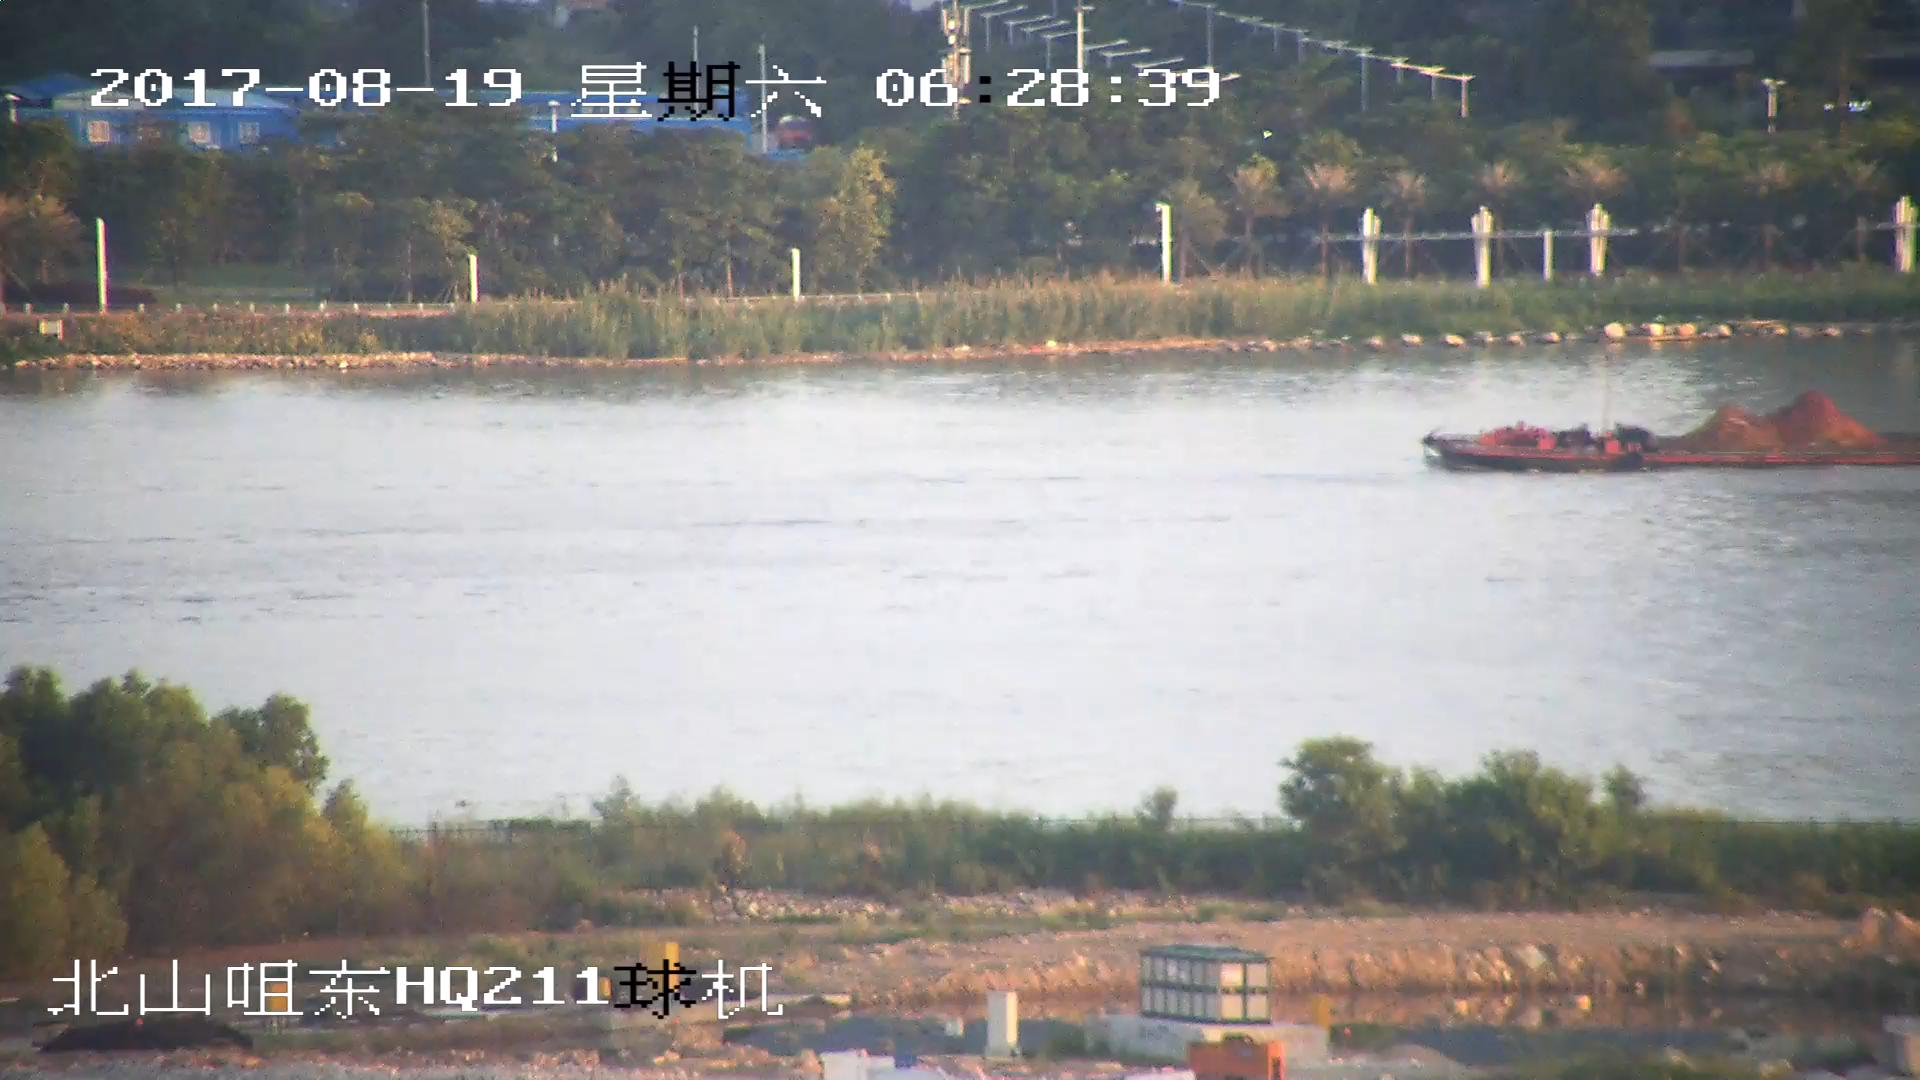ore carrier: (1422, 389, 1920, 477)
